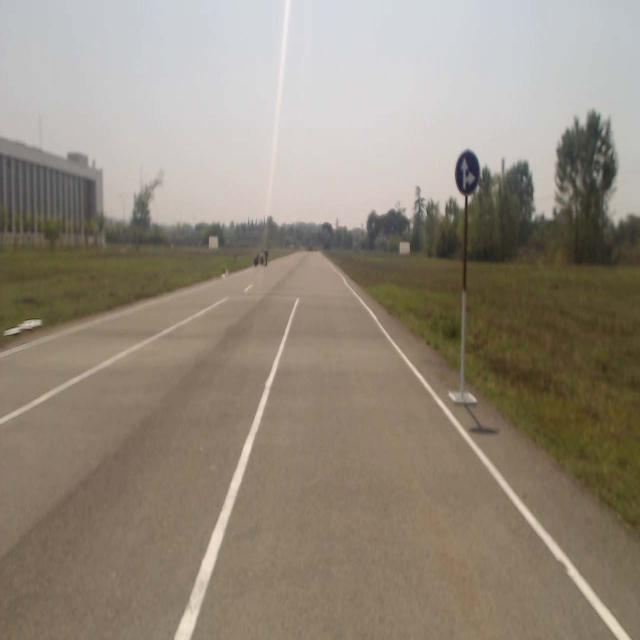ilerisag: (455, 150, 479, 194)
